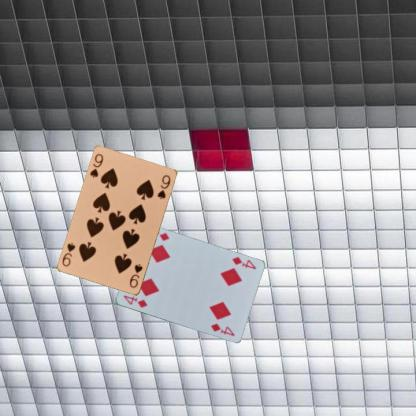4d: (229, 254, 257, 271), (121, 293, 148, 309)
9s: (87, 151, 105, 179), (127, 261, 144, 290)
